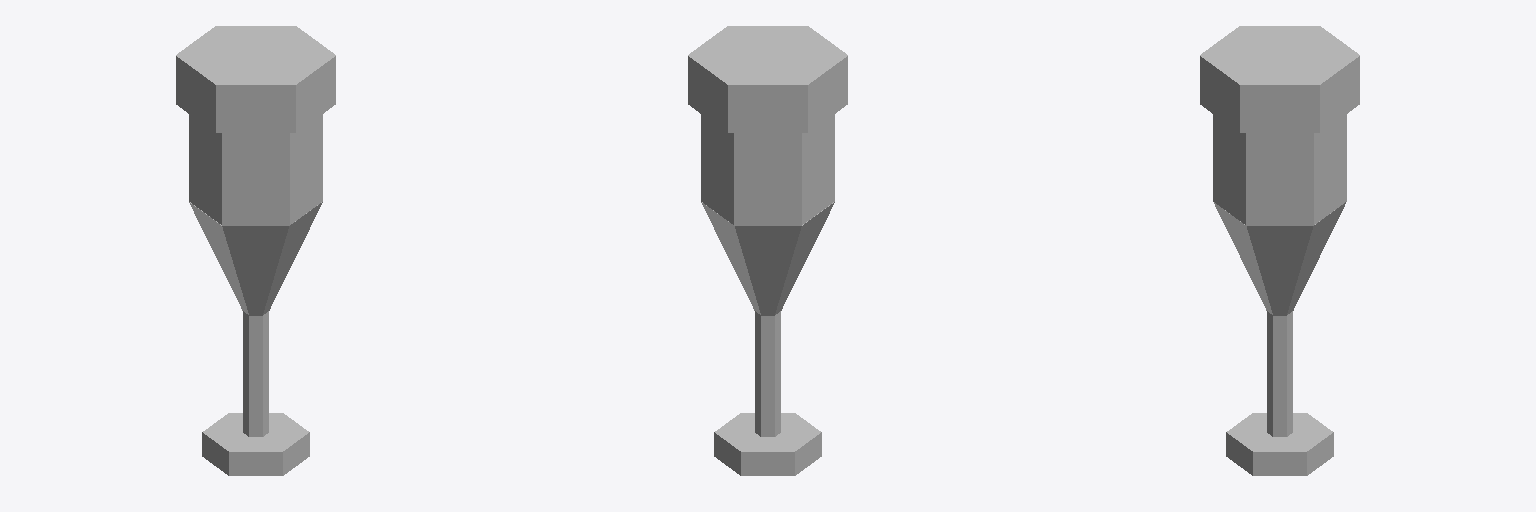
Rendered from short_crystal_wine_glass.obj.
3 renders of one model, left to right at view 1: azimuth 30°, elevation 25°; view 2: azimuth 150°, elevation 25°; view 3: azimuth 270°, elevation 25°, orthographic.
Parts seen in each view (by area): view 1: mouth, top, middle, bottom; view 2: mouth, top, middle, bottom; view 3: mouth, top, middle, bottom.
Part boxes in pixels (x1,y1,x2,y2): mouth: (176, 26, 335, 132); top: (189, 114, 322, 225); middle: (189, 202, 322, 436); bottom: (202, 413, 309, 475); mouth: (688, 26, 847, 132); top: (701, 114, 834, 225); middle: (701, 202, 834, 436); bottom: (714, 413, 821, 475); mouth: (1200, 26, 1359, 132); top: (1213, 114, 1346, 225); middle: (1214, 202, 1345, 436); bottom: (1226, 413, 1333, 475).
Size of the model in its own units: 0.1624 by 0.5156 by 0.1875.